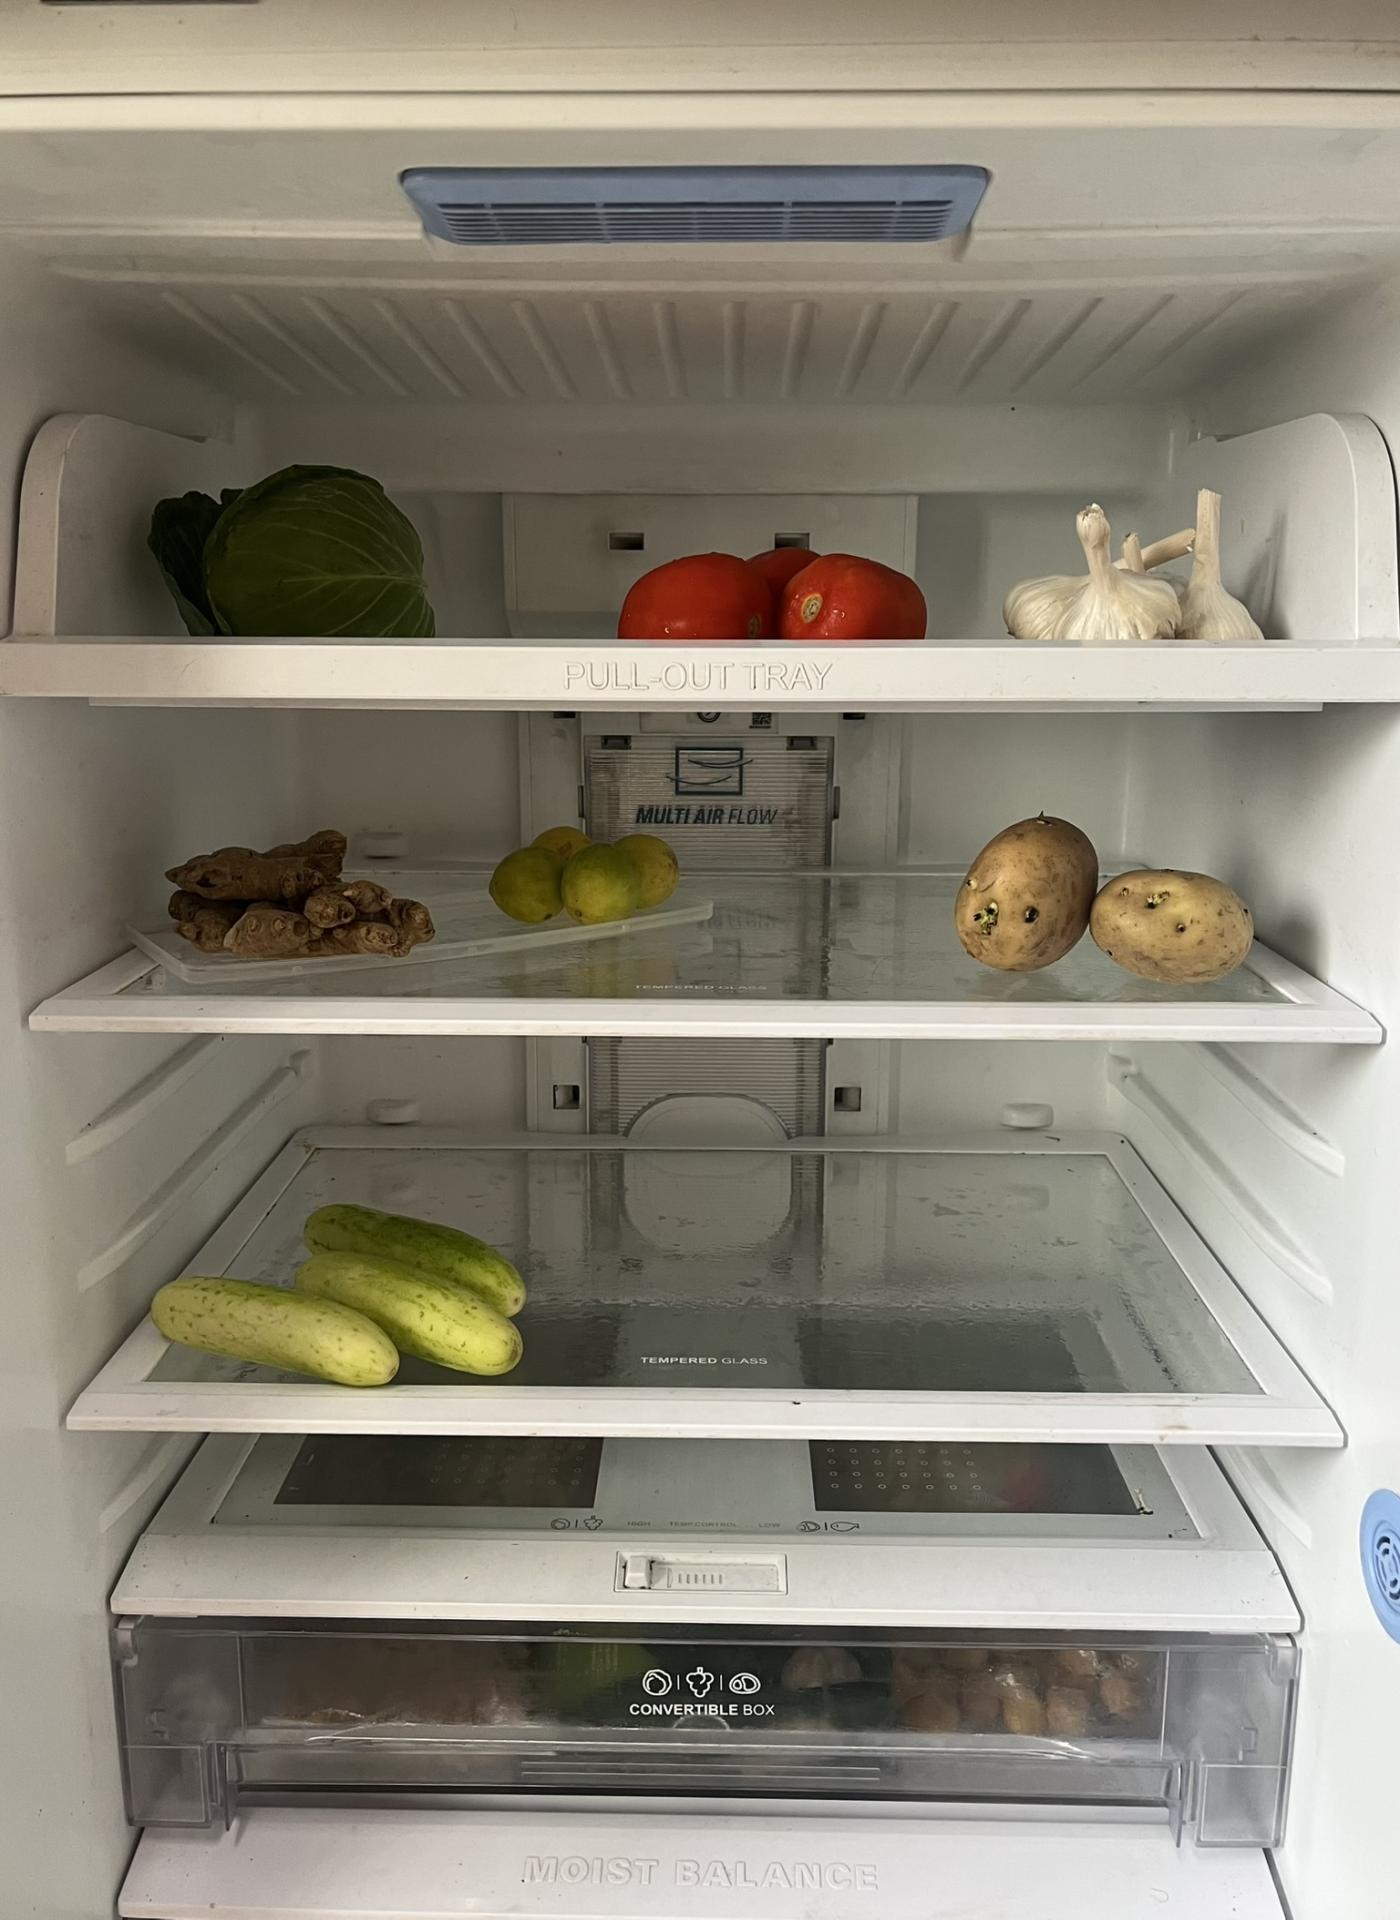cabbage: (140, 473, 441, 635)
cucumber: (143, 1188, 528, 1382)
garlic: (994, 489, 1263, 641)
ginger: (165, 832, 437, 957)
lemon: (485, 814, 680, 924)
potato: (953, 817, 1261, 991)
tomato: (628, 546, 927, 642)
